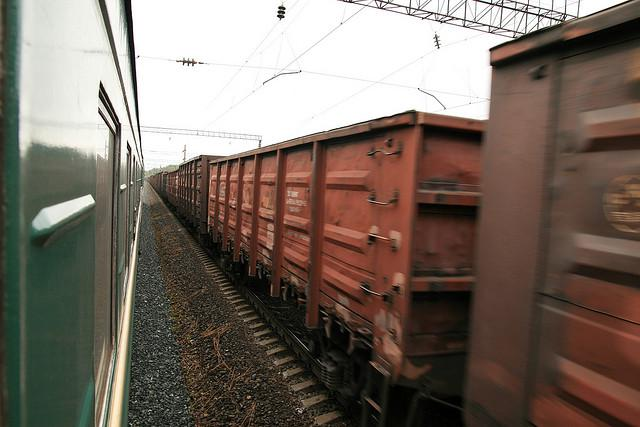Train: (149, 4, 640, 423), (1, 0, 145, 427)
